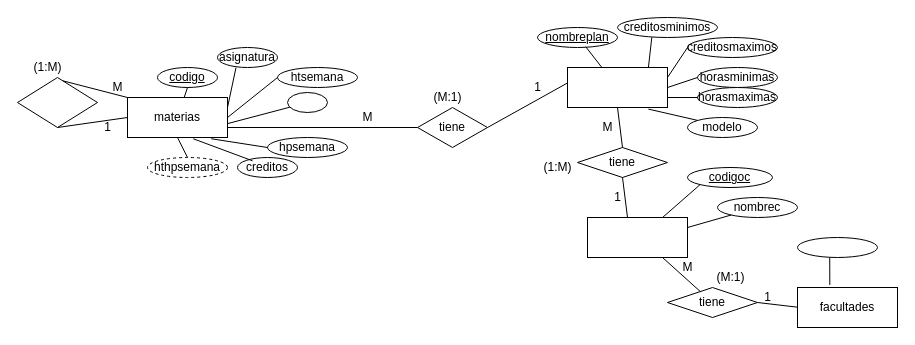
The diagram is 915 pixels wide and 345 high, and some of its shapes have lost their labels. Here are the shapes that lost their labels. From the top down, the centre of each, then its label:
At (57,102): "apertura".
At (307,102): "hthp".
At (617,87): "planeestudios".
At (637,237): "carreras".
At (837,247): "nombref".
